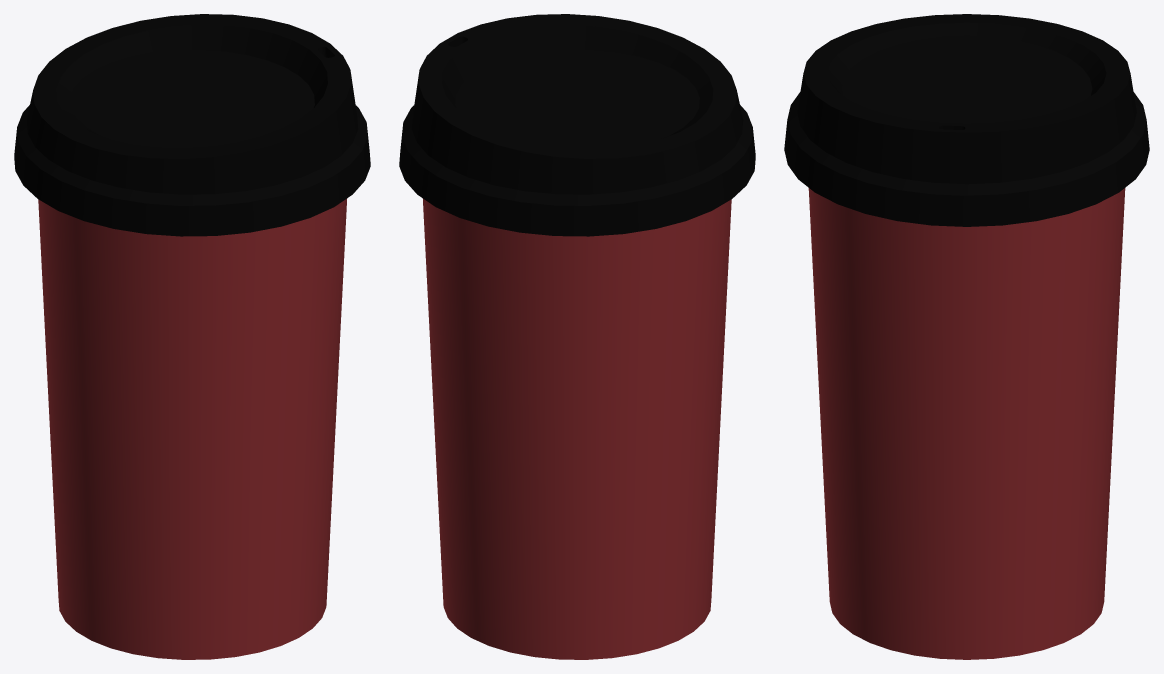
File: coffeeCupPaper.fbx
The picture shows the model from 3 angles, left to right: view 1: azimuth 30°, elevation 25°; view 2: azimuth 150°, elevation 25°; view 3: azimuth 270°, elevation 25°; orthographic projection. The views are drawn at different scales.
Parts seen in each view (by area): view 1: Cylinder.001; view 2: Cylinder.001; view 3: Cylinder.001.
Part boxes in pixels (<box>): Cylinder.001: <box>14,14,370,659</box>; Cylinder.001: <box>399,14,755,659</box>; Cylinder.001: <box>784,14,1149,659</box>.
Size of the model in its own units: 184 by 300 by 184.
